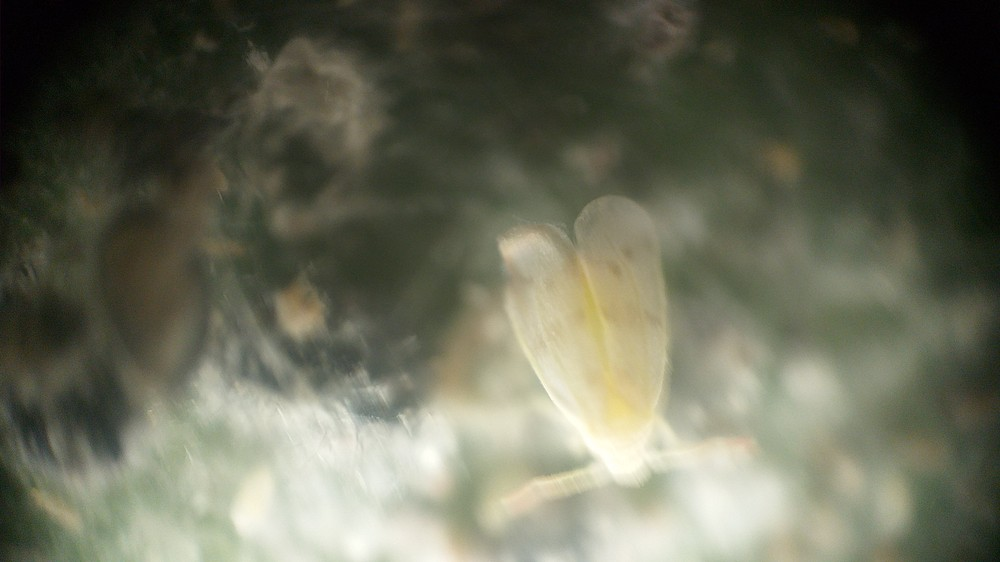Mosca Blanca: (464, 201, 783, 541)
